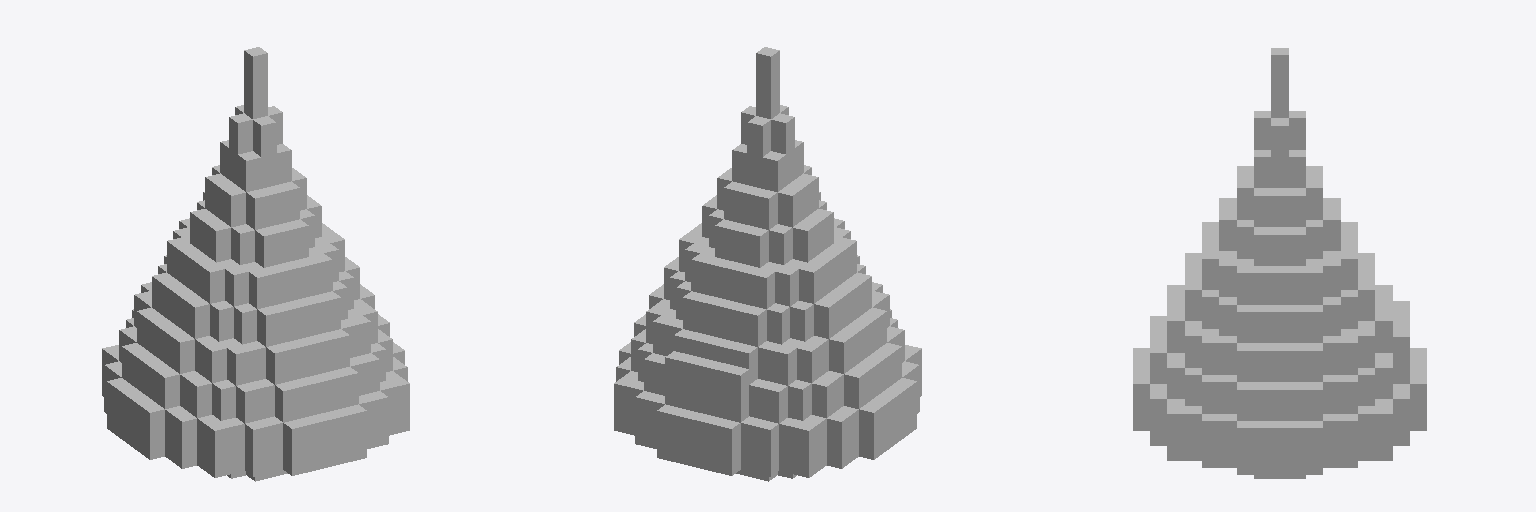
The model's file is snowytree.obj.
3 views of the same model, side by side, from view 1: azimuth 30°, elevation 25°; view 2: azimuth 150°, elevation 25°; view 3: azimuth 270°, elevation 25° (orthographic).
Bounding box in the file's own units: 17 × 26 × 17.